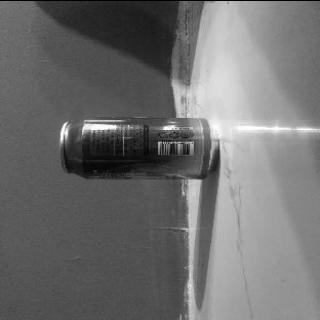alumunium_can: (58, 114, 222, 180)
